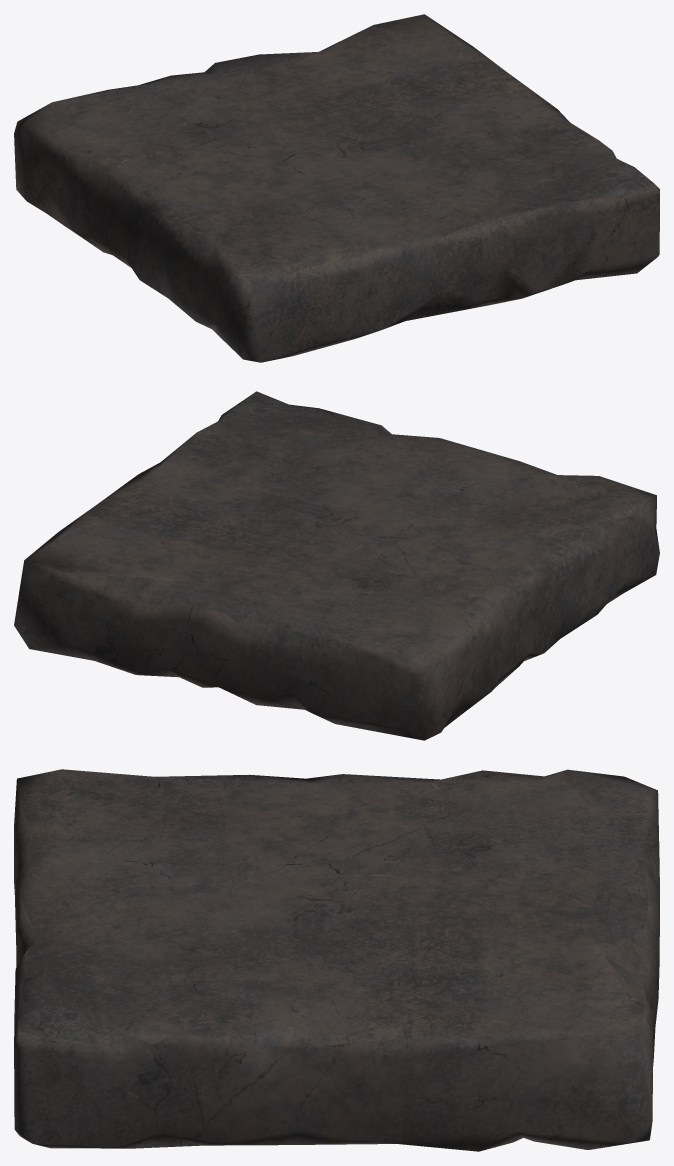
Rendered from SM_Slab1.fbx.
The picture shows the model from 3 angles, top to bottom: view 1: azimuth 30°, elevation 25°; view 2: azimuth 150°, elevation 25°; view 3: azimuth 270°, elevation 25°; orthographic projection. The views are drawn at different scales.
Visible parts, largest first — view 1: SM_Slab1_LOD0; view 2: SM_Slab1_LOD0; view 3: SM_Slab1_LOD0.
Boxes of the visible parts, left/top/right/bottom form: SM_Slab1_LOD0: left=14, top=14, right=659, bottom=362; SM_Slab1_LOD0: left=14, top=391, right=659, bottom=740; SM_Slab1_LOD0: left=14, top=769, right=659, bottom=1151.
Size of the model in its own units: 151 by 151 by 30.1.
1 material, 1 textured.
